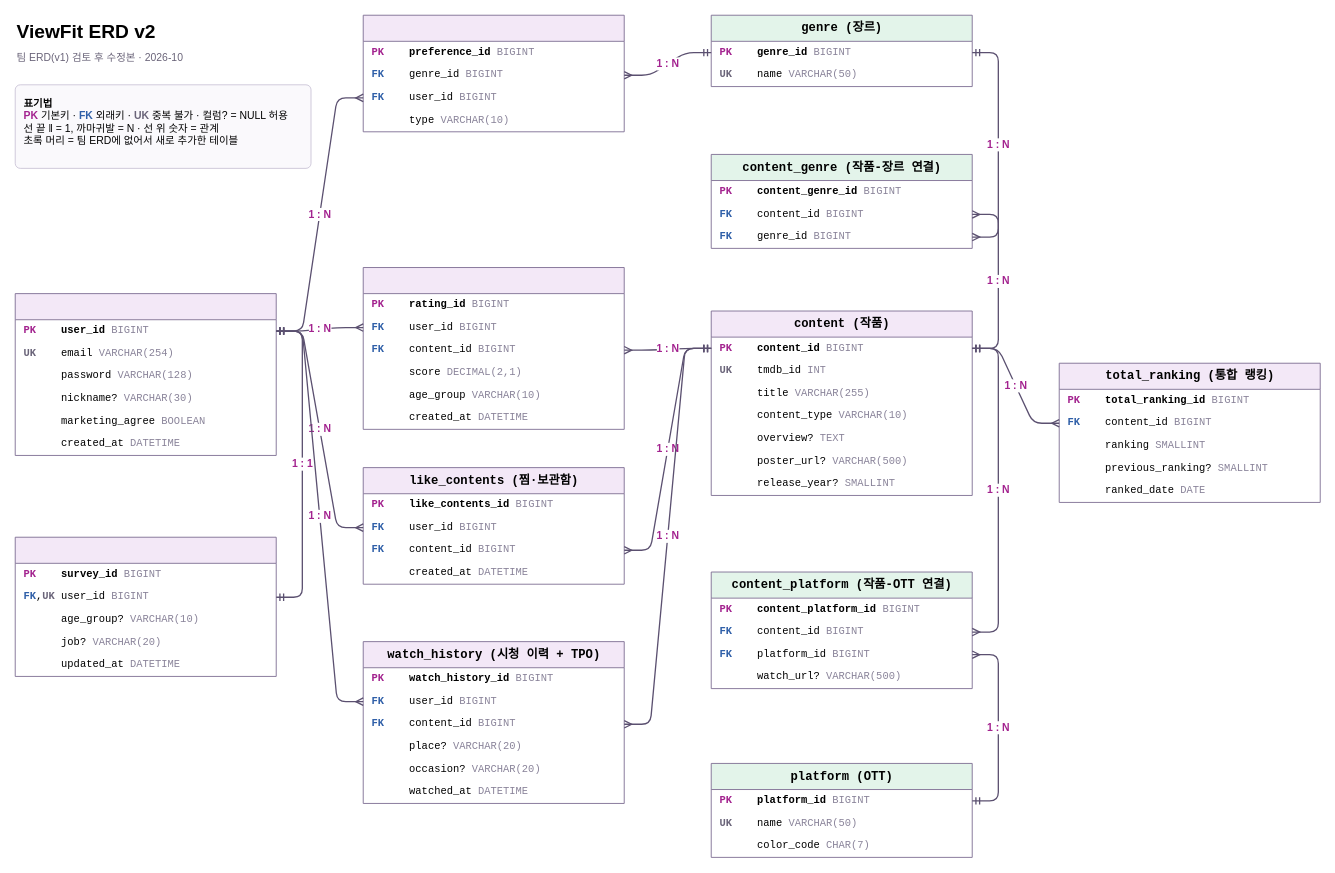
This 1335x873 diagram has some shape labels left out. The box of each missing label's shape, as (x1, y1, x2, y2) in pixels:
preference (장르 취향): (362, 14, 624, 132)
rating (평점): (362, 267, 624, 429)
survey (설문): (14, 536, 276, 676)
user (회원): (14, 293, 276, 455)
